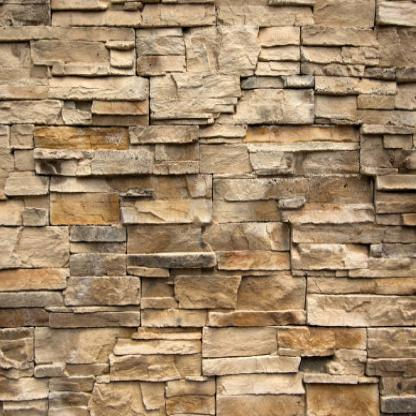Sedimentary_Sandstone: (112, 165, 217, 235), (146, 64, 243, 128), (220, 266, 310, 325), (280, 172, 376, 219), (50, 269, 146, 307)
